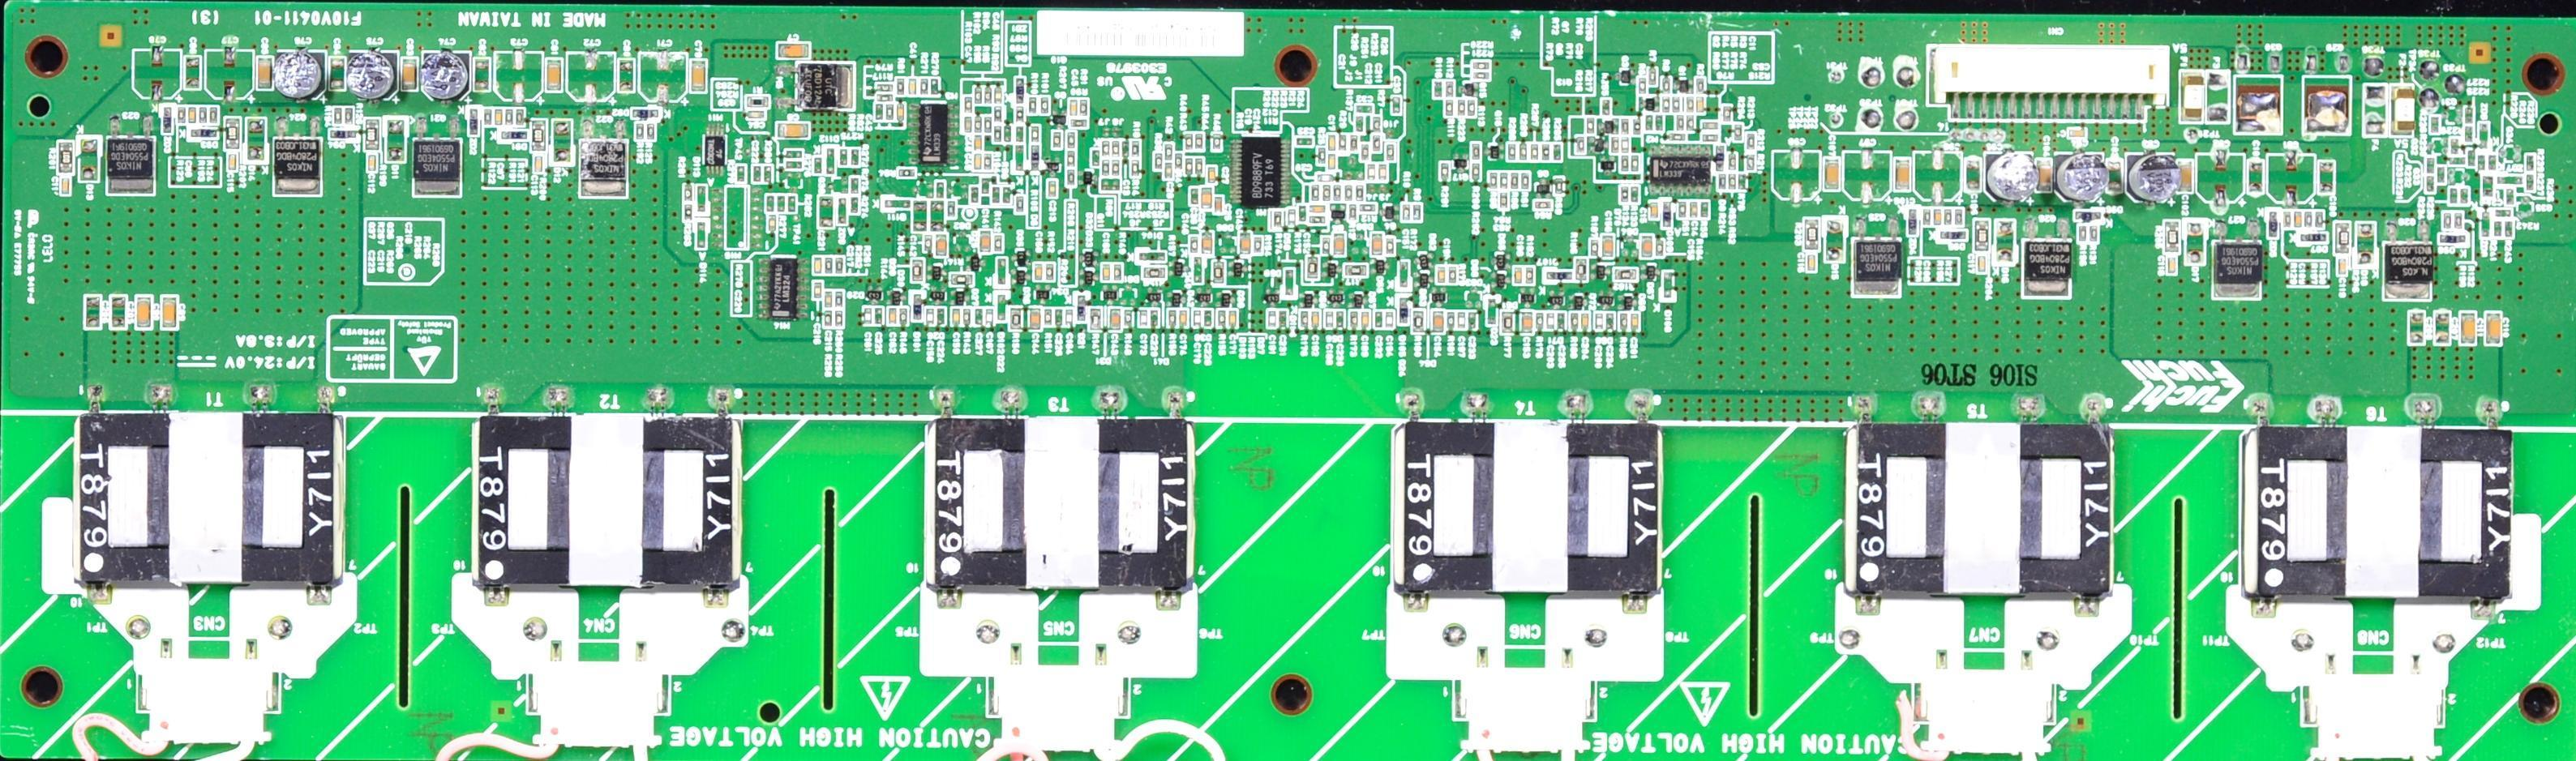Capacitor: (1987, 153, 2035, 198), (278, 49, 322, 96), (2131, 156, 2176, 199), (350, 53, 393, 96), (2065, 160, 2110, 201), (423, 52, 466, 93), (775, 41, 816, 59), (158, 295, 178, 328), (135, 293, 153, 329), (544, 58, 562, 92), (1895, 157, 1913, 190), (2483, 314, 2501, 345), (401, 58, 418, 91), (690, 59, 707, 92), (1826, 153, 1841, 189), (256, 53, 272, 90), (331, 54, 345, 90), (778, 120, 806, 137), (2038, 159, 2050, 191), (2178, 161, 2192, 190), (1639, 234, 1653, 260), (2461, 314, 2475, 343), (1431, 307, 1445, 330), (1101, 177, 1120, 190), (743, 109, 767, 120), (1201, 186, 1213, 208), (1602, 234, 1614, 257), (979, 230, 990, 251), (936, 235, 948, 257), (1028, 308, 1040, 329), (1108, 310, 1121, 327), (2166, 255, 2175, 277), (1522, 310, 1532, 330), (1467, 310, 1478, 331), (1581, 313, 1590, 335), (162, 106, 170, 133), (533, 153, 542, 174), (1048, 178, 1057, 199), (1932, 207, 1943, 224), (366, 152, 375, 172), (59, 176, 70, 196), (1203, 234, 1212, 254), (1372, 234, 1382, 253), (1334, 236, 1344, 255), (887, 306, 897, 325), (228, 153, 238, 171), (1648, 202, 1658, 220), (907, 78, 916, 94), (994, 87, 1003, 104), (1391, 96, 1400, 115), (1190, 190, 1199, 208), (1238, 236, 1249, 251), (1807, 253, 1815, 272), (1033, 264, 1043, 280), (1436, 265, 1444, 284), (1514, 265, 1521, 284), (863, 306, 871, 325), (1268, 308, 1277, 327), (1310, 310, 1318, 328), (1546, 312, 1554, 331), (1606, 310, 1613, 336), (1328, 132, 1335, 150), (2294, 211, 2302, 229), (1140, 309, 1149, 327), (1228, 310, 1237, 327), (1103, 265, 1112, 280), (494, 108, 502, 125), (953, 308, 961, 324), (1178, 310, 1186, 326), (1335, 312, 1344, 328), (1357, 104, 1370, 113), (1209, 165, 1215, 184), (1065, 308, 1074, 327), (1151, 309, 1158, 328), (1385, 311, 1391, 331), (1361, 311, 1368, 331), (1458, 311, 1464, 331), (1593, 312, 1601, 331), (1557, 313, 1564, 332), (1633, 314, 1639, 333), (897, 104, 906, 119), (749, 162, 757, 182), (2338, 257, 2345, 274), (985, 307, 992, 326), (1374, 311, 1379, 328), (2066, 129, 2081, 137), (1690, 202, 1698, 219), (1978, 257, 1984, 273), (1325, 311, 1331, 327), (927, 304, 932, 326), (812, 254, 819, 274), (974, 308, 980, 323), (824, 312, 830, 327), (1310, 205, 1324, 212), (1070, 98, 1075, 115), (189, 105, 195, 122), (1299, 207, 1305, 224), (976, 156, 980, 170), (1165, 164, 1170, 180), (1194, 310, 1199, 324), (975, 137, 981, 149)
IC: (1237, 146, 1283, 199), (1652, 153, 1708, 183), (768, 262, 794, 310), (922, 105, 941, 160), (708, 137, 723, 162)
Resistor: (58, 139, 74, 172), (531, 119, 546, 149), (362, 116, 379, 151), (225, 116, 240, 149), (1975, 220, 1991, 249), (2335, 220, 2348, 254), (325, 128, 358, 140), (1576, 258, 1591, 282), (1211, 261, 1227, 282), (2163, 221, 2177, 249), (1499, 311, 1514, 336), (1805, 218, 1816, 247), (1411, 309, 1424, 331), (1344, 265, 1367, 276), (1009, 306, 1020, 328), (911, 256, 922, 283), (1089, 310, 1102, 331), (1193, 257, 1203, 281), (1535, 201, 1553, 213), (209, 105, 220, 125), (344, 105, 354, 125), (331, 105, 342, 126), (2499, 174, 2522, 185), (1305, 257, 1314, 279), (1069, 118, 1087, 130), (643, 122, 654, 140), (951, 275, 971, 284), (1122, 309, 1132, 328), (2462, 107, 2474, 124), (1634, 121, 1645, 137), (898, 167, 919, 177), (1401, 203, 1409, 225), (1662, 75, 1673, 93), (896, 78, 905, 95), (1211, 133, 1220, 151), (991, 186, 1000, 203), (811, 279, 821, 298), (1373, 135, 1382, 156), (851, 145, 859, 165), (2493, 216, 2502, 238), (1322, 233, 1329, 255), (1525, 266, 1533, 287), (2483, 212, 2489, 238), (736, 165, 748, 182), (1434, 79, 1442, 98), (1662, 96, 1670, 115), (787, 160, 803, 170), (1553, 177, 1562, 195), (776, 193, 784, 212), (1617, 269, 1634, 279), (1168, 310, 1176, 328), (1569, 312, 1578, 331), (1649, 68, 1658, 87), (2481, 173, 2488, 196), (1476, 60, 1489, 71), (1695, 77, 1704, 95), (1078, 97, 1087, 114), (516, 107, 524, 125), (1052, 131, 1061, 149), (1747, 134, 1755, 152), (936, 182, 945, 199), (947, 201, 954, 218), (1361, 205, 1378, 214), (1677, 201, 1686, 219), (1447, 266, 1456, 284), (898, 306, 906, 324), (1704, 134, 1718, 143), (1506, 143, 1516, 158), (2281, 212, 2291, 226), (1252, 238, 1262, 253), (1520, 143, 1526, 165), (1532, 143, 1537, 165), (851, 177, 857, 197), (1620, 311, 1627, 332), (919, 79, 928, 95), (876, 83, 893, 92), (1686, 96, 1694, 111), (1672, 97, 1680, 113), (504, 109, 513, 125), (483, 108, 491, 126), (1340, 135, 1348, 152), (2448, 135, 2457, 152), (1726, 173, 1734, 190), (2303, 211, 2311, 227), (823, 256, 831, 272), (1114, 264, 1121, 280), (1044, 309, 1052, 325), (636, 122, 643, 142), (1672, 130, 1685, 139), (839, 148, 847, 167), (1412, 202, 1419, 222), (1272, 207, 1279, 226), (767, 216, 777, 229), (1588, 236, 1596, 255), (1447, 309, 1454, 328), (1351, 310, 1357, 328), (1536, 311, 1543, 330), (932, 79, 939, 94), (1111, 139, 1118, 154), (1165, 145, 1173, 160), (787, 149, 801, 157), (1327, 153, 1336, 167), (2526, 155, 2533, 169), (2527, 175, 2535, 190), (1473, 72, 1488, 80), (178, 105, 184, 123), (199, 105, 205, 123), (2429, 114, 2437, 133), (1621, 119, 1627, 137), (1387, 144, 1393, 162), (1746, 152, 1753, 170), (1312, 182, 1320, 201), (685, 185, 692, 203), (1357, 186, 1364, 203), (971, 186, 977, 203), (2442, 212, 2450, 229), (1046, 263, 1053, 281), (1301, 309, 1307, 327), (1041, 96, 1048, 113), (1698, 100, 1704, 117), (886, 105, 894, 119), (1644, 113, 1649, 130), (1678, 117, 1687, 130), (975, 118, 981, 134), (2463, 129, 2471, 142), (1016, 127, 1022, 143), (1131, 142, 1138, 155), (1553, 143, 1558, 160), (1361, 143, 1368, 160), (1472, 143, 1479, 160), (1317, 148, 1324, 165), (1066, 150, 1073, 166), (1728, 152, 1734, 169), (2477, 154, 2484, 171), (2489, 155, 2496, 170), (1194, 157, 1201, 173), (2427, 159, 2434, 172), (1186, 158, 1192, 174), (1369, 165, 1374, 181), (1490, 173, 1496, 189), (1520, 172, 1527, 190), (1345, 184, 1352, 201), (2507, 192, 2515, 206), (788, 196, 795, 212), (1956, 208, 1961, 225), (1945, 209, 1952, 225), (837, 291, 843, 308), (835, 311, 841, 327), (878, 95, 894, 101), (1004, 126, 1011, 139), (1032, 128, 1039, 143), (1065, 133, 1074, 148), (1195, 135, 1201, 149), (1174, 153, 1181, 168), (1103, 160, 1108, 174), (1112, 160, 1118, 175), (763, 165, 769, 180), (2426, 176, 2433, 191), (1335, 184, 1340, 199), (1500, 195, 1507, 208), (1703, 201, 1708, 220), (2078, 227, 2085, 242), (994, 236, 1000, 250), (834, 259, 842, 273), (825, 290, 832, 306), (1447, 104, 1454, 115), (1622, 139, 1630, 150), (1612, 139, 1619, 149), (851, 203, 859, 213), (2089, 227, 2096, 239), (1447, 82, 1451, 100), (1543, 143, 1547, 160), (1501, 173, 1506, 190), (1511, 172, 1515, 191), (1219, 310, 1224, 327), (1468, 101, 1476, 115), (985, 118, 992, 131), (1704, 122, 1717, 129), (1186, 135, 1192, 147), (1133, 163, 1139, 175), (1318, 173, 1331, 182), (2314, 212, 2321, 225), (2454, 214, 2461, 227), (924, 237, 931, 250), (965, 310, 971, 323), (965, 97, 970, 113), (1030, 96, 1035, 113), (876, 104, 881, 121), (995, 126, 1001, 142), (1003, 187, 1009, 203), (1017, 197, 1022, 213), (683, 209, 692, 218), (1015, 109, 1022, 121), (1378, 165, 1385, 177), (1924, 211, 1931, 222), (1312, 216, 1325, 222), (1725, 106, 1730, 122), (1656, 115, 1661, 130), (1104, 139, 1108, 155), (2438, 166, 2443, 182), (1324, 184, 1329, 199), (976, 88, 980, 102), (985, 88, 990, 102), (1460, 102, 1466, 115), (996, 106, 1001, 118), (1357, 117, 1362, 130), (966, 117, 971, 130), (1737, 129, 1742, 141), (1351, 135, 1356, 148), (1473, 165, 1478, 180), (1068, 169, 1074, 183), (1632, 185, 1638, 197), (1622, 186, 1626, 199), (2459, 190, 2465, 202), (2508, 221, 2513, 236), (1156, 153, 1159, 171), (1442, 162, 1447, 181), (1639, 80, 1644, 92), (1373, 117, 1378, 128), (1738, 177, 1743, 188), (1632, 156, 1637, 172), (767, 194, 771, 210), (1289, 208, 1293, 224), (1689, 116, 1694, 127), (1123, 141, 1127, 156), (1623, 156, 1627, 171), (2467, 152, 2471, 164), (2450, 188, 2454, 201)
Transistor: (107, 143, 149, 194), (279, 141, 319, 190), (585, 143, 622, 195), (801, 67, 845, 105), (2033, 245, 2065, 291), (2390, 250, 2426, 289), (419, 147, 451, 187), (2222, 242, 2251, 284), (1860, 245, 1888, 281), (1453, 158, 1465, 172), (1623, 70, 1631, 86), (1331, 208, 1343, 220), (1601, 120, 1613, 130), (1050, 161, 1059, 173), (1538, 179, 1548, 190), (1678, 79, 1686, 92), (1491, 143, 1499, 156), (1387, 202, 1395, 216), (1052, 114, 1065, 122), (1601, 160, 1611, 169), (1081, 170, 1090, 180), (1375, 261, 1382, 271), (1644, 99, 1652, 106)
